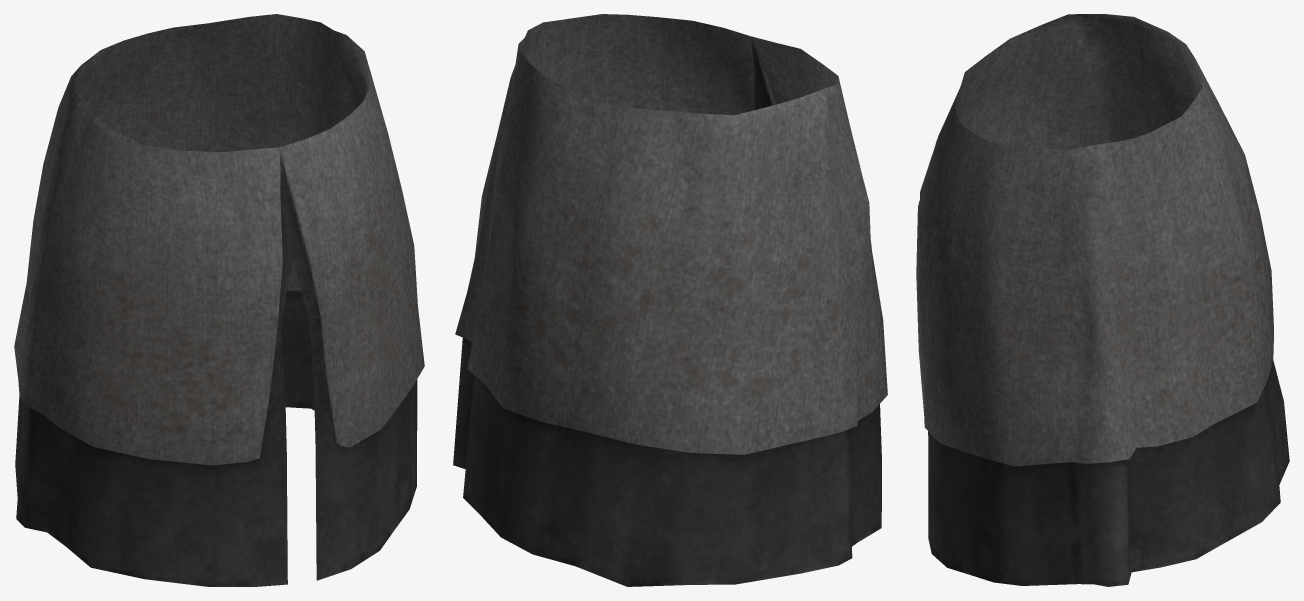
File: clo_pg_spearman_armor_02.fbx
3 renders of one model, left to right at view 1: azimuth 30°, elevation 25°; view 2: azimuth 150°, elevation 25°; view 3: azimuth 270°, elevation 25°, orthographic. The views are drawn at different scales.
Visible parts, largest first — view 1: clo_pg_spearman_armor_02; view 2: clo_pg_spearman_armor_02; view 3: clo_pg_spearman_armor_02.
Part boxes in pixels (x1,y1,x2,y2): clo_pg_spearman_armor_02: (14,14,424,586); clo_pg_spearman_armor_02: (453,14,887,586); clo_pg_spearman_armor_02: (916,14,1289,586).
Size of the model in its own units: 0.5225 by 0.4518 by 0.6065.
Materials: 1 (1 with a texture image).
